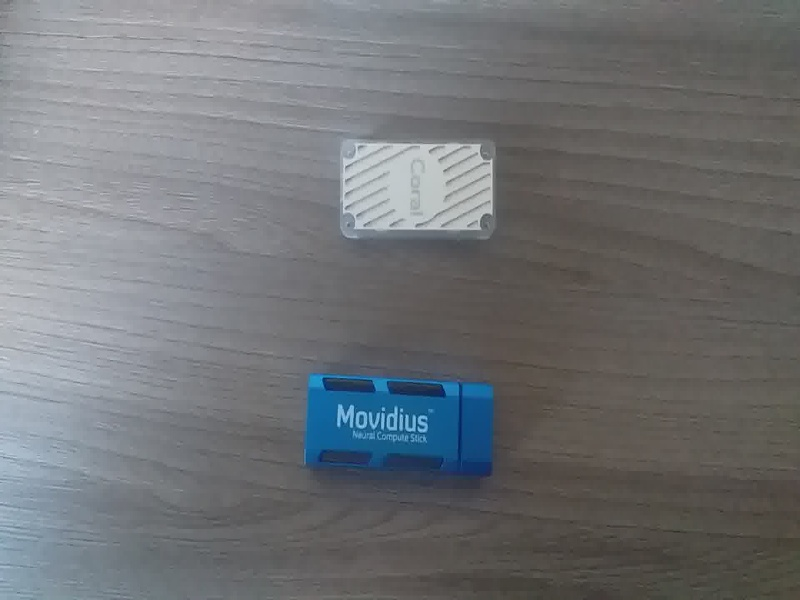coral: (335, 134, 510, 246)
movidius: (297, 364, 509, 481)
